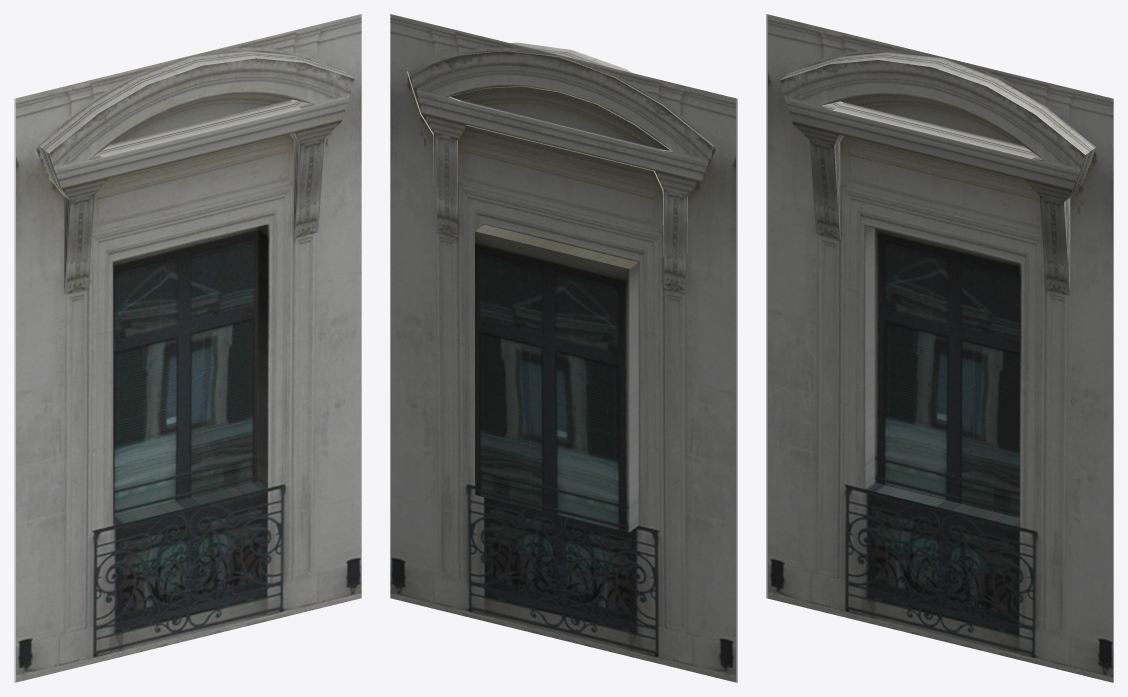
The model's file is win3.obj.
3 views of the same model, side by side, from view 1: azimuth 30°, elevation 25°; view 2: azimuth 150°, elevation 25°; view 3: azimuth 330°, elevation 25° (orthographic).
Parts seen in each view (by area): view 1: polySurface110; view 2: polySurface110; view 3: polySurface110.
Boxes of the visible parts, x1,y1,x2,y2 form: polySurface110: (14, 14, 361, 682); polySurface110: (390, 14, 737, 682); polySurface110: (766, 14, 1113, 682).
Size of the model in its own units: 0.3689 by 0.593 by 0.037.
Materials: 1 (1 with a texture image).
